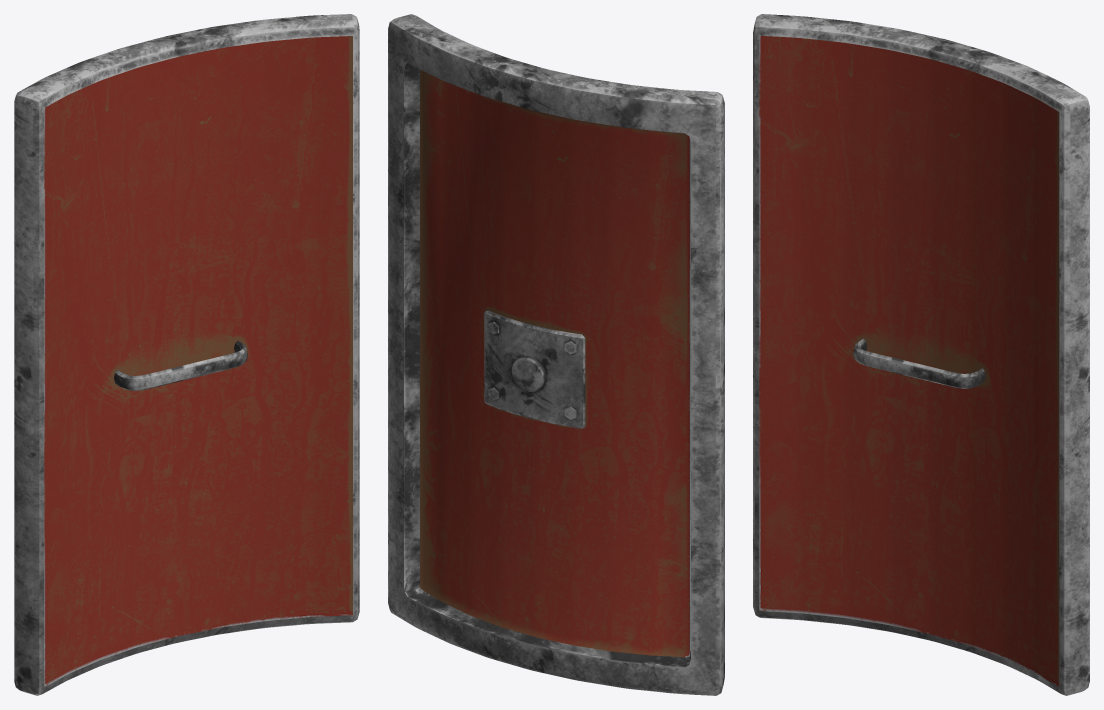
The model's file is Shield_04.fbx.
3 renders of one model, left to right at view 1: azimuth 30°, elevation 25°; view 2: azimuth 150°, elevation 25°; view 3: azimuth 330°, elevation 25°, orthographic.
Visible parts, largest first — view 1: Shield_04; view 2: Shield_04; view 3: Shield_04.
Part boxes in pixels (bbox=[...]): Shield_04: bbox=[14, 14, 359, 695]; Shield_04: bbox=[388, 14, 724, 695]; Shield_04: bbox=[753, 14, 1089, 695].
Bounding box in the file's own units: 27.07 × 45.86 × 5.53.
5 materials, 5 textured.
